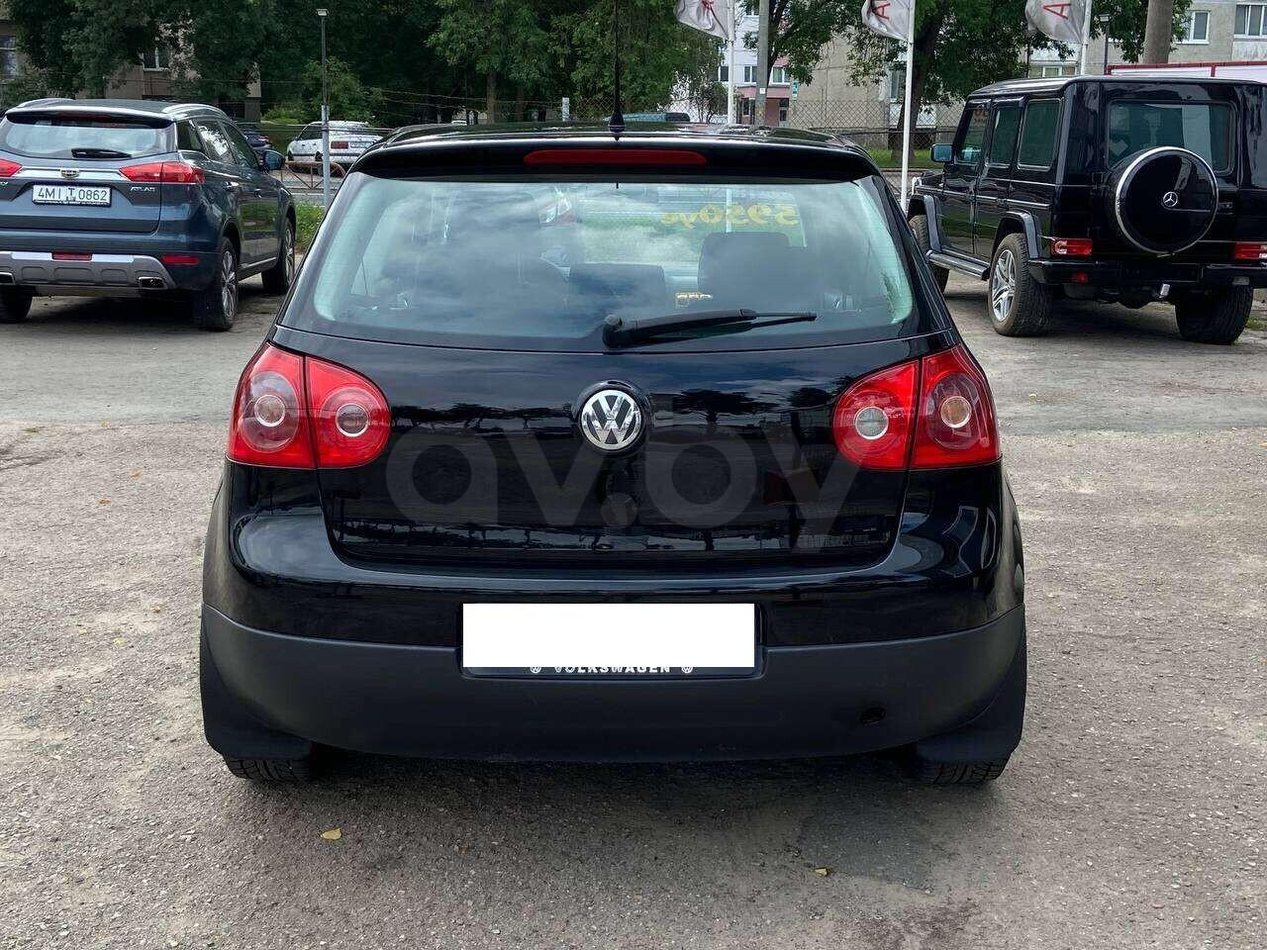Golf_2003-2009: (196, 122, 1036, 817)
